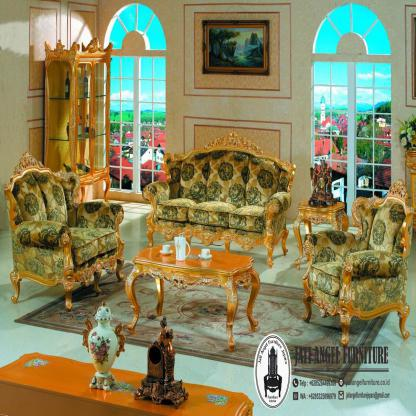meja: (129, 246, 261, 342)
sova: (6, 155, 127, 304), (307, 186, 414, 347), (154, 145, 291, 262)
